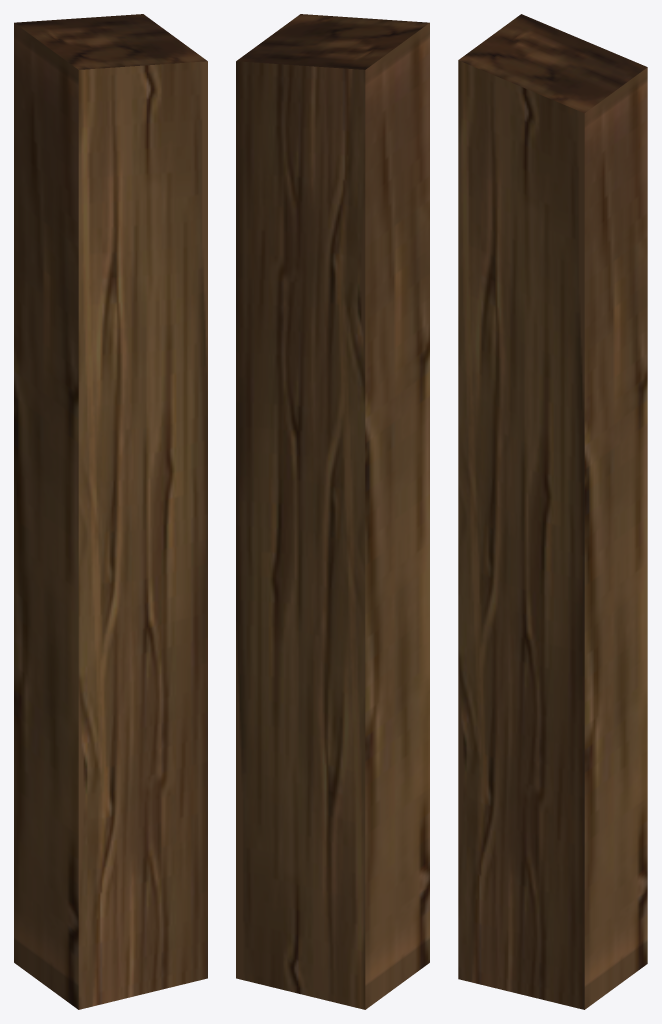
Rendered from fanasty_mod_gro_fence_post02.fbx.
3 renders of one model, left to right at view 1: azimuth 30°, elevation 25°; view 2: azimuth 150°, elevation 25°; view 3: azimuth 330°, elevation 25°, orthographic. The views are drawn at different scales.
Visible parts, largest first — view 1: gro_fence_post_02; view 2: gro_fence_post_02; view 3: gro_fence_post_02.
Boxes of the visible parts, left/top/right/bottom form: gro_fence_post_02: left=14, top=14, right=207, bottom=1009; gro_fence_post_02: left=236, top=14, right=429, bottom=1009; gro_fence_post_02: left=458, top=14, right=647, bottom=1009.
Size of the model in its own units: 0.1868 by 1.3 by 0.1616.
